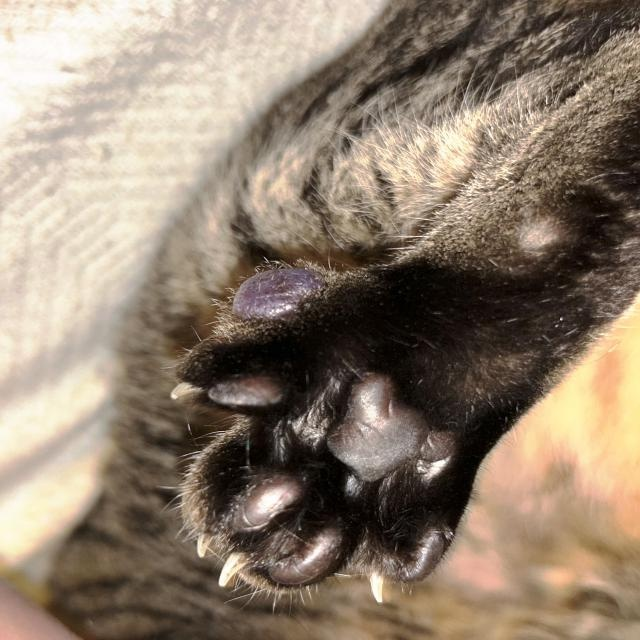lump_and_bump: (223, 267, 326, 327)
